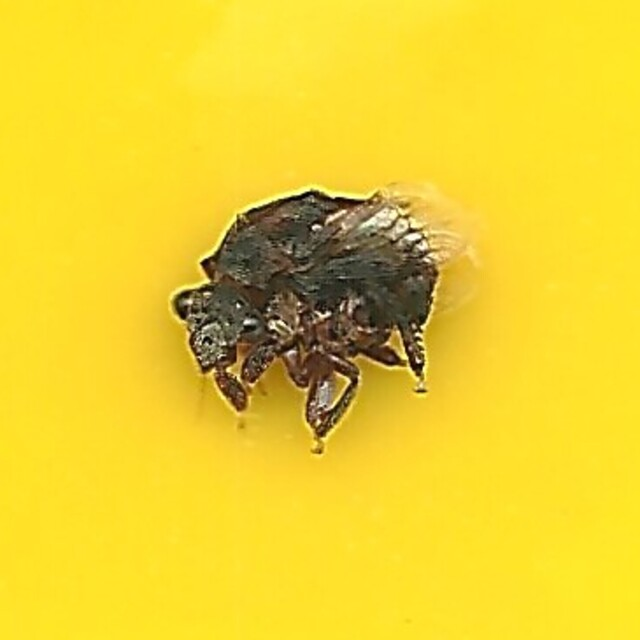Hemiptera: (175, 181, 465, 459)
